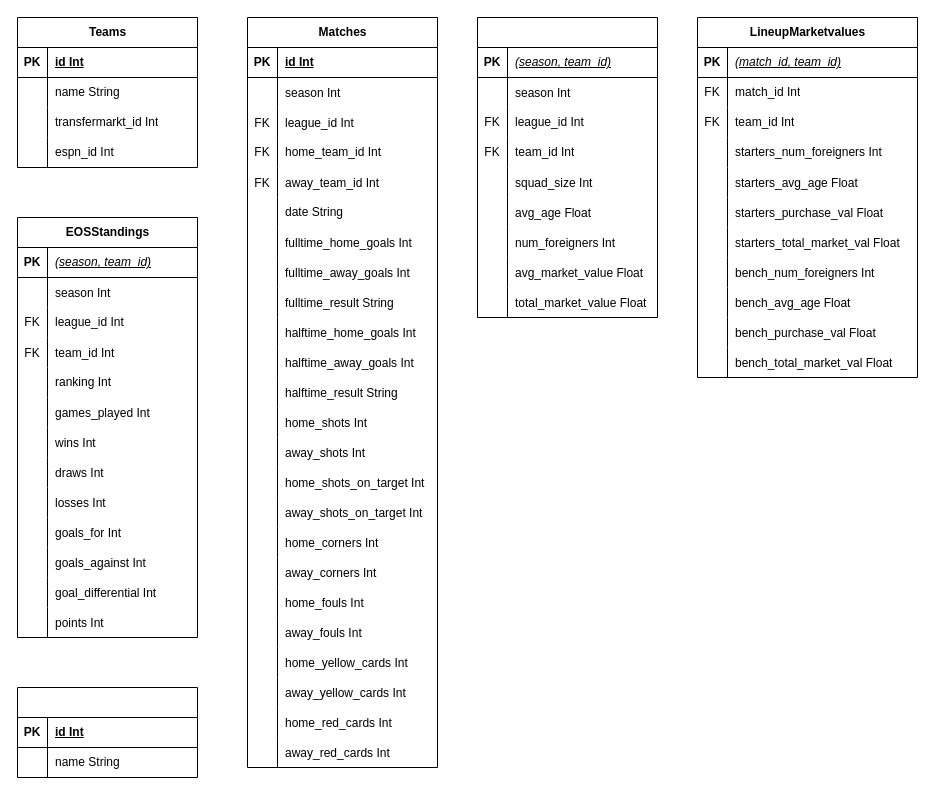
Some shapes in this 935 by 795 pixel diagram are drawn without their labels. The box of each missing label's shape, as (x1, y1, x2, y2) in pixels:
Leagues: (16, 686, 198, 778)
TeamMarketvalues: (476, 16, 658, 318)
